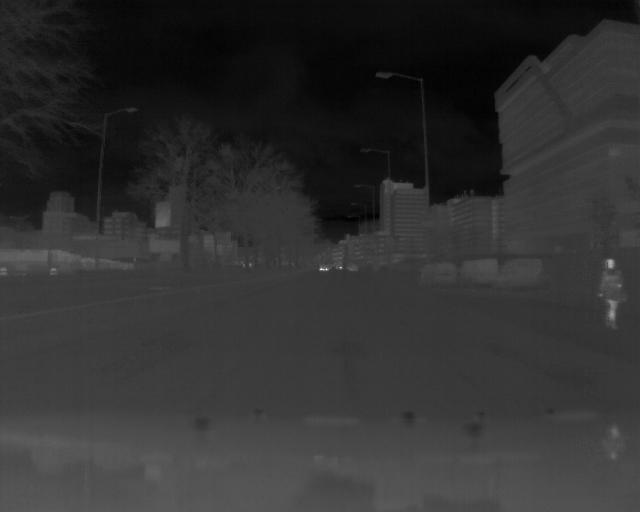person: (598, 257, 626, 327)
